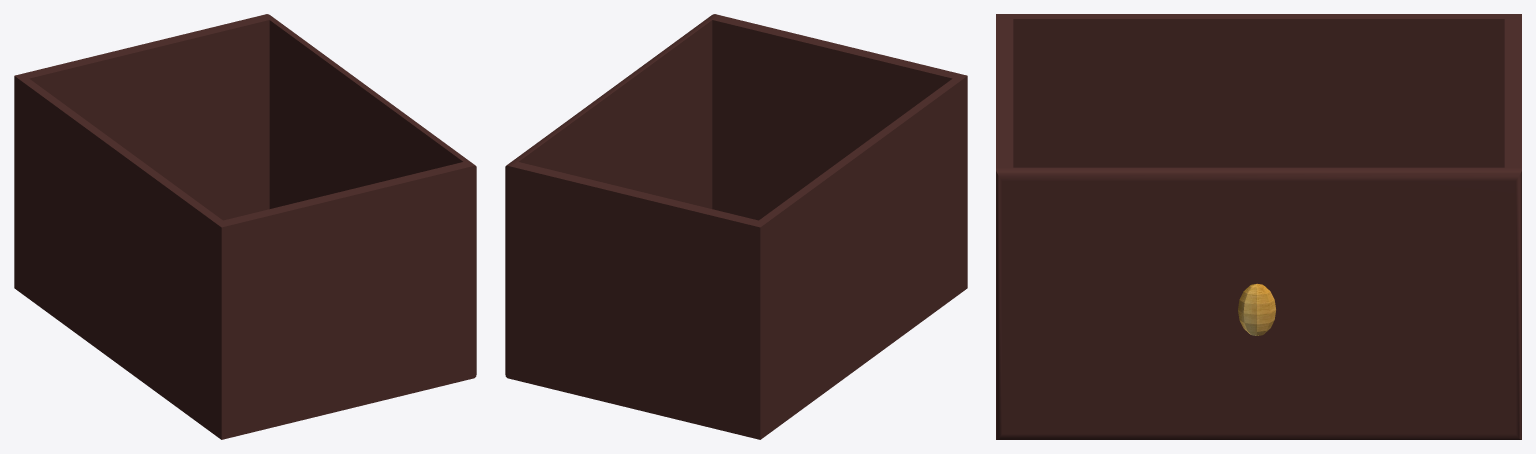
The model's file is Cajon_Comedor.obj.
3 views of the same model, side by side, from view 1: azimuth 30°, elevation 25°; view 2: azimuth 150°, elevation 25°; view 3: azimuth 270°, elevation 25° (orthographic). The views are drawn at different scales.
Visible parts, largest first — view 1: pasted__CAJON_MOVIBLE; view 2: pasted__CAJON_MOVIBLE; view 3: pasted__CAJON_MOVIBLE.
Part boxes in pixels (box(x1,y1,x2,y2)): pasted__CAJON_MOVIBLE: box(14, 14, 476, 439); pasted__CAJON_MOVIBLE: box(505, 14, 967, 439); pasted__CAJON_MOVIBLE: box(996, 14, 1521, 439).
Size of the model in its own units: 0.4314 by 0.3092 by 0.5469.
Materials: 4 (4 with a texture image).
